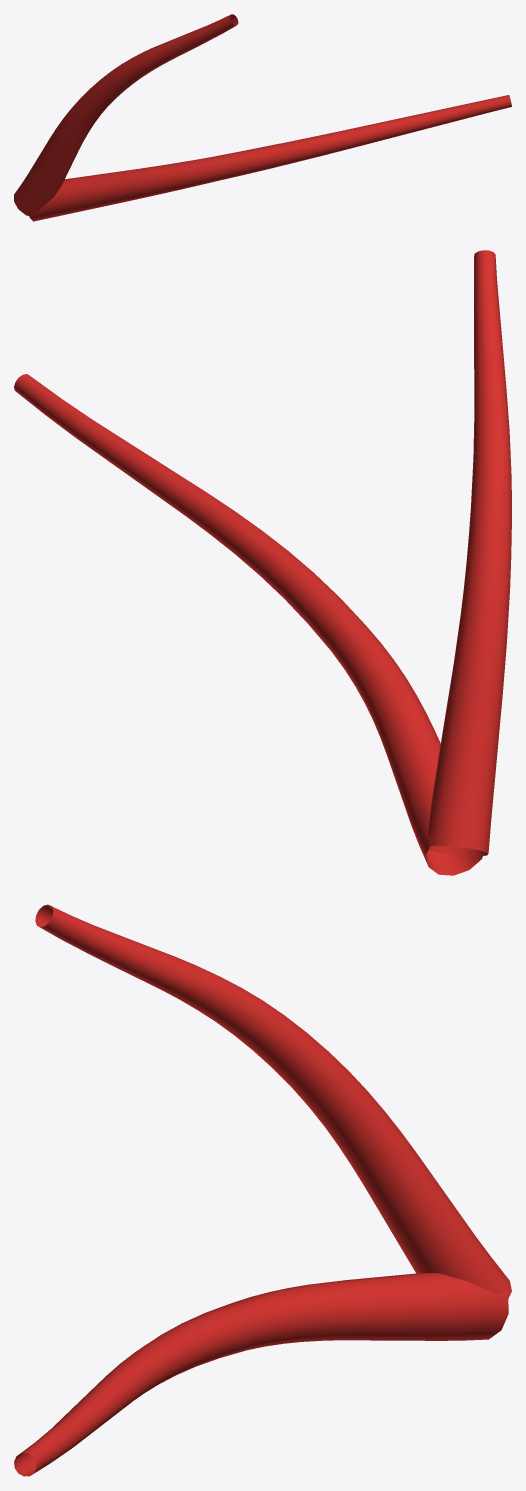
Rendered from circulatorio-mental-branch-of-inferior-alveolar-artery-r.glb.
3 renders of one model, top to bottom at view 1: azimuth 30°, elevation 25°; view 2: azimuth 150°, elevation 25°; view 3: azimuth 270°, elevation 25°, orthographic. The views are drawn at different scales.
Visible parts, largest first — view 1: Mental branch of inferior alveolar artery.r; view 2: Mental branch of inferior alveolar artery.r; view 3: Mental branch of inferior alveolar artery.r.
Boxes of the visible parts, box(x1,y1,x2,y2) form: Mental branch of inferior alveolar artery.r: box(14, 14, 511, 221); Mental branch of inferior alveolar artery.r: box(14, 250, 511, 875); Mental branch of inferior alveolar artery.r: box(14, 904, 511, 1476).
Size of the model in its own units: 0.00707 by 0.00462 by 0.00401.
